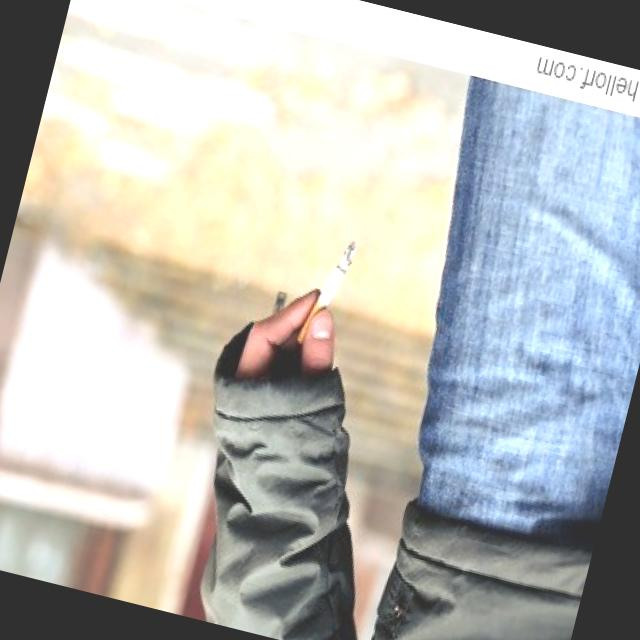smoke: (294, 234, 360, 353)
